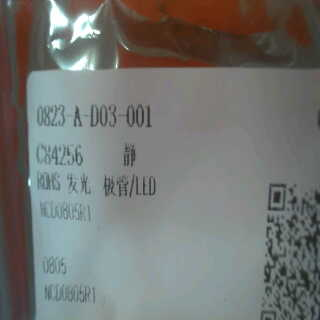LED: (63, 170, 164, 197)
